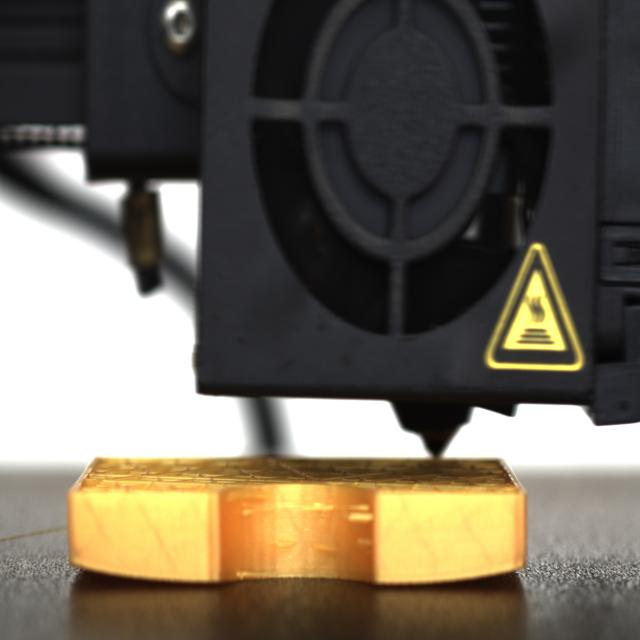Warping: (452, 553, 528, 592), (67, 552, 146, 586)
